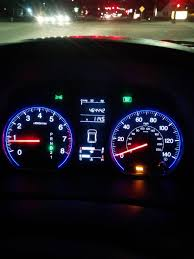Digital_Meter: (80, 105, 107, 115)
